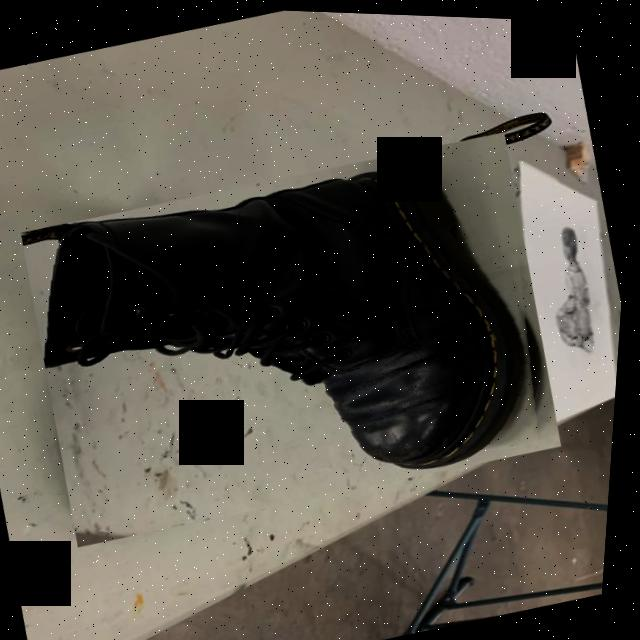shoe: (8, 114, 583, 560)
